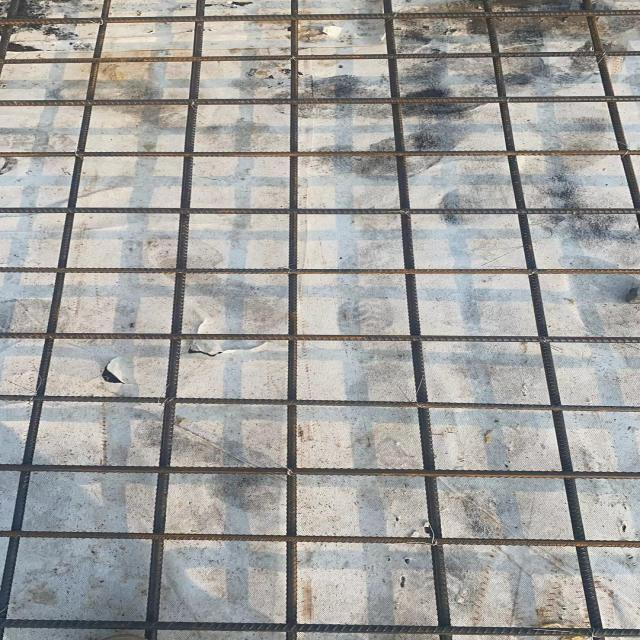ribbed bar: (481, 0, 606, 639), (0, 0, 112, 639), (381, 0, 452, 639), (144, 0, 204, 639), (580, 0, 639, 221), (0, 394, 639, 412), (0, 530, 639, 548), (0, 464, 639, 481), (6, 620, 639, 637), (0, 9, 639, 25), (0, 50, 639, 64), (284, 0, 297, 639), (0, 96, 639, 107), (0, 332, 639, 343), (0, 149, 639, 157), (0, 207, 639, 214), (0, 267, 639, 274)
